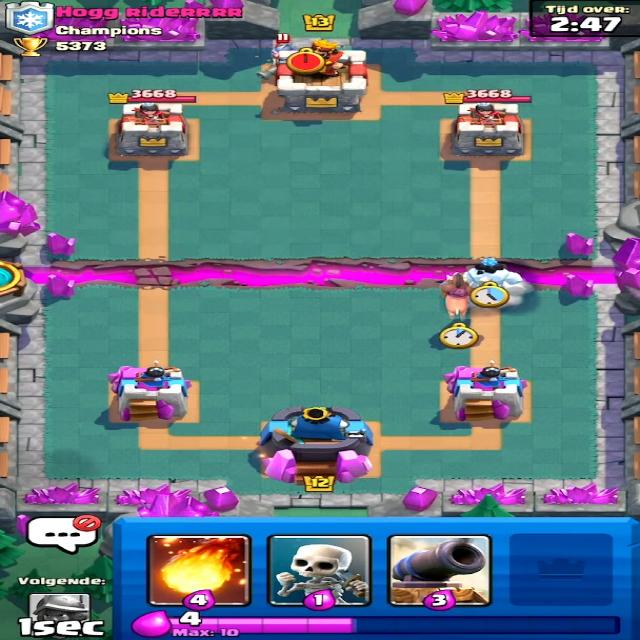Cannon_Card: (388, 533, 488, 606)
Fireball_Card: (125, 524, 255, 604)
Skeleton_Card: (274, 541, 367, 605)
